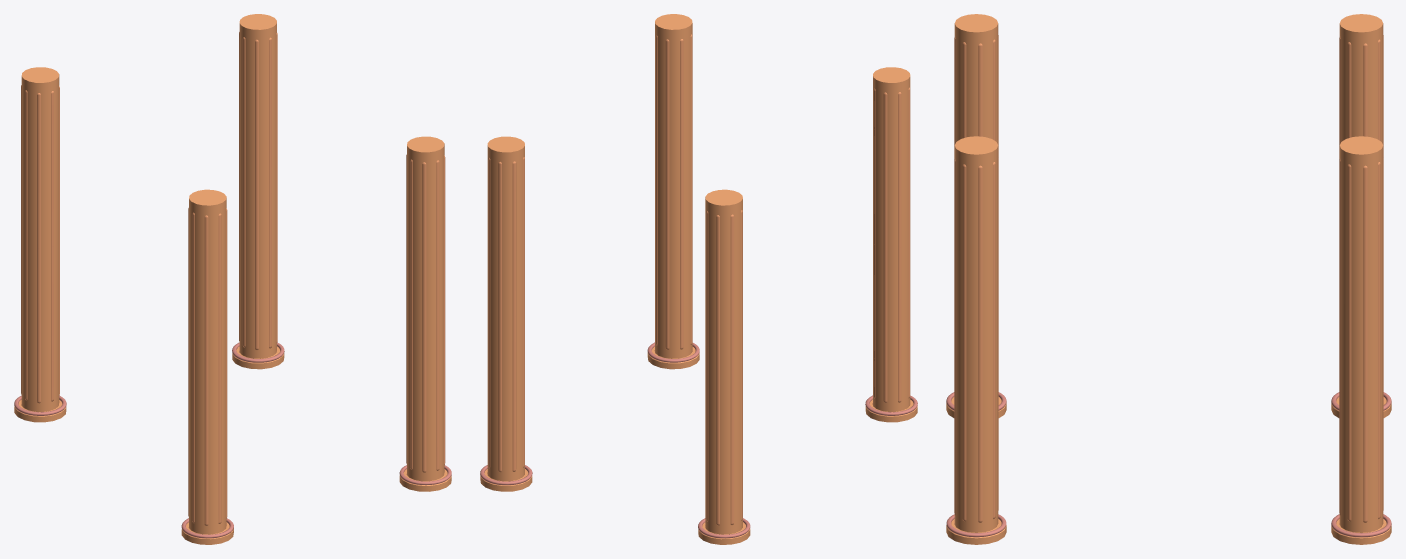
File: hideandsmash_pillars.fbx
The picture shows the model from 3 angles, left to right: view 1: azimuth 30°, elevation 25°; view 2: azimuth 150°, elevation 25°; view 3: azimuth 270°, elevation 25°; orthographic projection. The views are drawn at different scales.
Visible parts, largest first — view 1: pillarDetail (×4), bottomRightPillar, topRightPillar, bottomLeftPillar, topLeftPillar; view 2: pillarDetail (×4), topLeftPillar, bottomLeftPillar, topRightPillar, bottomRightPillar; view 3: topRightPillar, topLeftPillar, pillarDetail (×4), bottomRightPillar, bottomLeftPillar.
Boxes of the visible parts, x1,y1,x2,y2 form: pillarDetail (×4): (21, 32, 445, 525); bottomRightPillar: (181, 189, 233, 544); topRightPillar: (399, 136, 451, 491); bottomLeftPillar: (14, 67, 66, 422); topLeftPillar: (232, 14, 284, 369); pillarDetail (×4): (488, 34, 910, 525); topLeftPillar: (480, 136, 532, 491); bottomLeftPillar: (698, 189, 750, 544); topRightPillar: (647, 14, 699, 369); bottomRightPillar: (865, 67, 917, 422); topRightPillar: (946, 136, 1006, 544); topLeftPillar: (1331, 136, 1391, 544); pillarDetail (×4): (954, 35, 1383, 522); bottomRightPillar: (946, 14, 1006, 417); bottomLeftPillar: (1331, 14, 1391, 417).
Bounding box in the file's own units: 55.72 × 67.98 × 70.96.
